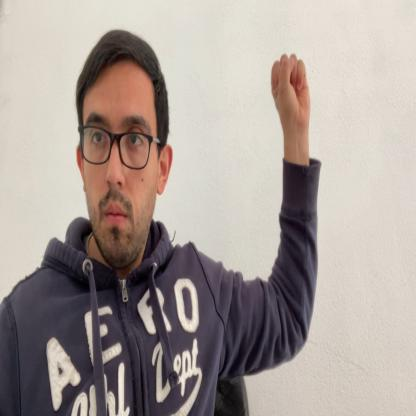S: (270, 53, 309, 125)
